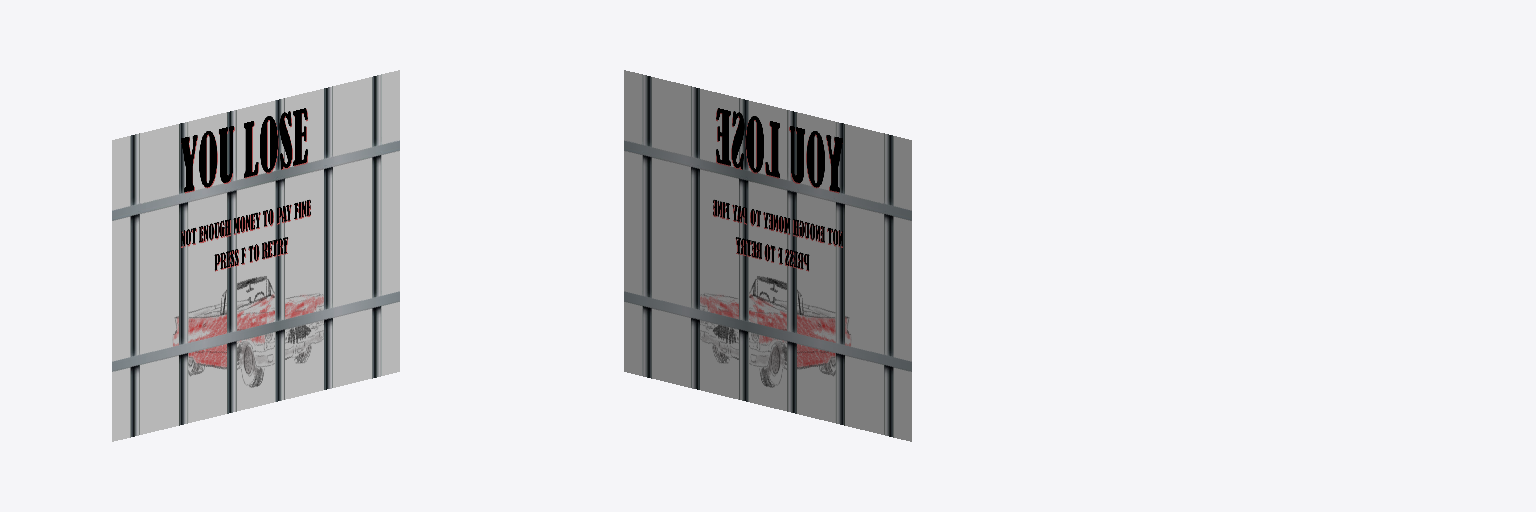
3 renders of one model, left to right at view 1: azimuth 30°, elevation 25°; view 2: azimuth 150°, elevation 25°; view 3: azimuth 270°, elevation 25°, orthographic.
Parts seen in each view (by area): view 1: Plane.001; view 2: Plane.001; view 3: none.
Part boxes in pixels (left/top/right/bottom): Plane.001: left=112, top=70, right=399, bottom=441; Plane.001: left=624, top=70, right=911, bottom=441.
Size of the model in its own units: 2 by 2 by 0.
1 materials, 1 textured.